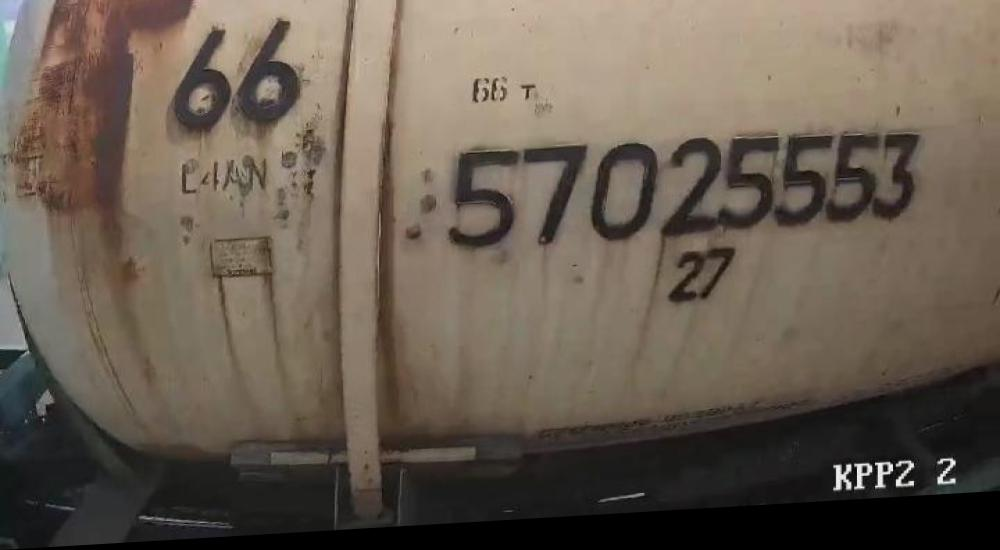Wagon-number: (446, 126, 925, 260)
